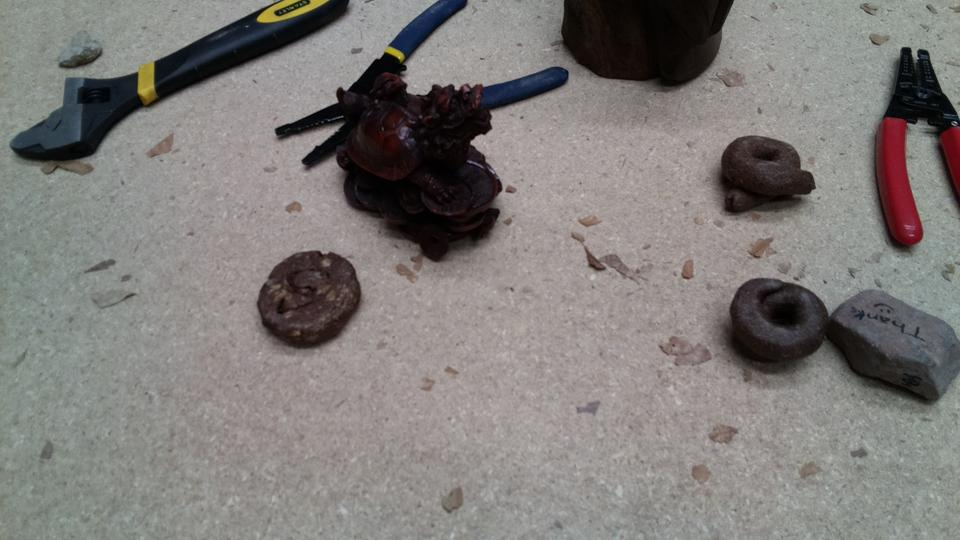poop: (253, 245, 367, 351), (725, 273, 832, 368), (716, 133, 822, 215)
